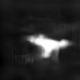plane: (24, 32, 73, 61)
